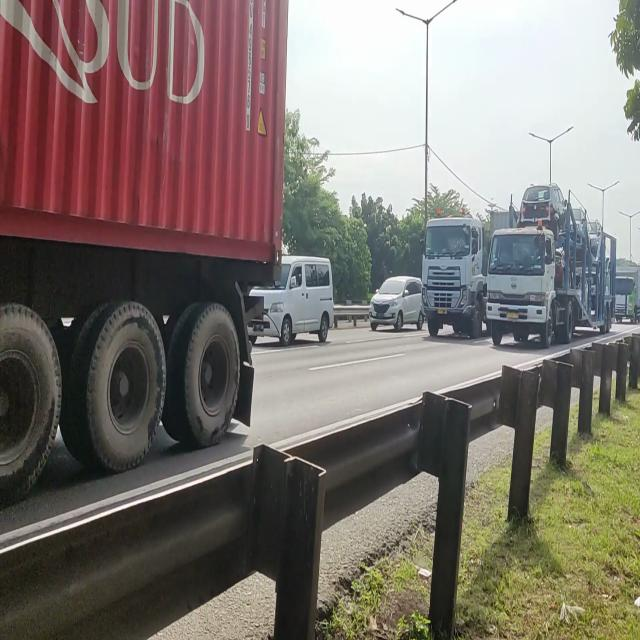Golongan I: (264, 252, 334, 349), (365, 272, 427, 334)
